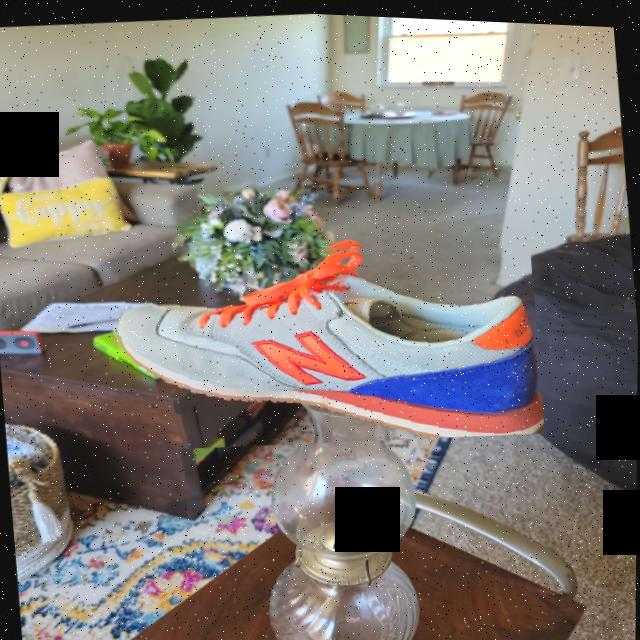shoe: (103, 212, 546, 465)
